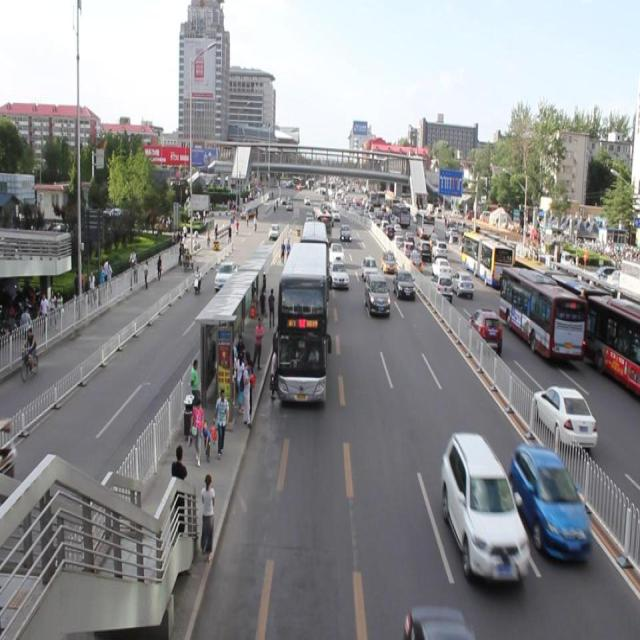car: (440, 429, 528, 581), (510, 445, 591, 561), (364, 274, 390, 319), (328, 256, 348, 290), (392, 269, 414, 298), (361, 254, 378, 277), (381, 251, 397, 273), (329, 239, 344, 262)
van: (277, 242, 328, 403), (300, 220, 330, 330)
